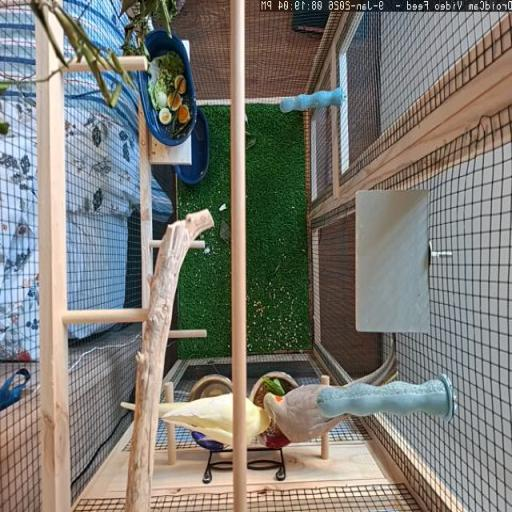bebedero: (186, 374, 232, 418)
comedero: (250, 371, 299, 446)
ninfa: (271, 333, 384, 443), (158, 397, 234, 447), (159, 394, 233, 444), (246, 400, 274, 446), (246, 398, 270, 444)
